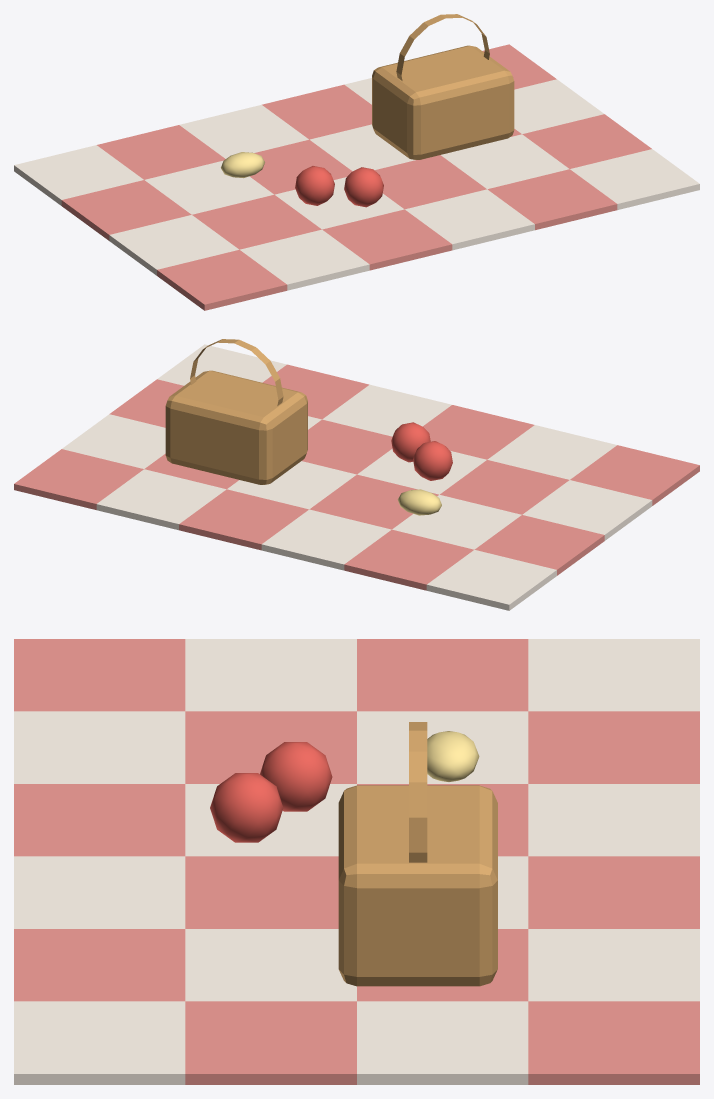
3 renders of one model, top to bottom at view 1: azimuth 30°, elevation 25°; view 2: azimuth 150°, elevation 25°; view 3: azimuth 270°, elevation 25°, orthographic. The views are drawn at different scales.
Visible parts, largest first — view 1: Deco picnic_mat; view 2: Deco picnic_mat; view 3: Deco picnic_mat.
Boxes of the visible parts, box(x1,y1,x2,y2) form: Deco picnic_mat: box(14, 14, 699, 310); Deco picnic_mat: box(14, 339, 699, 610); Deco picnic_mat: box(14, 639, 699, 1084).
Bounding box in the file's own units: 2.52 × 0.615 × 1.68.
